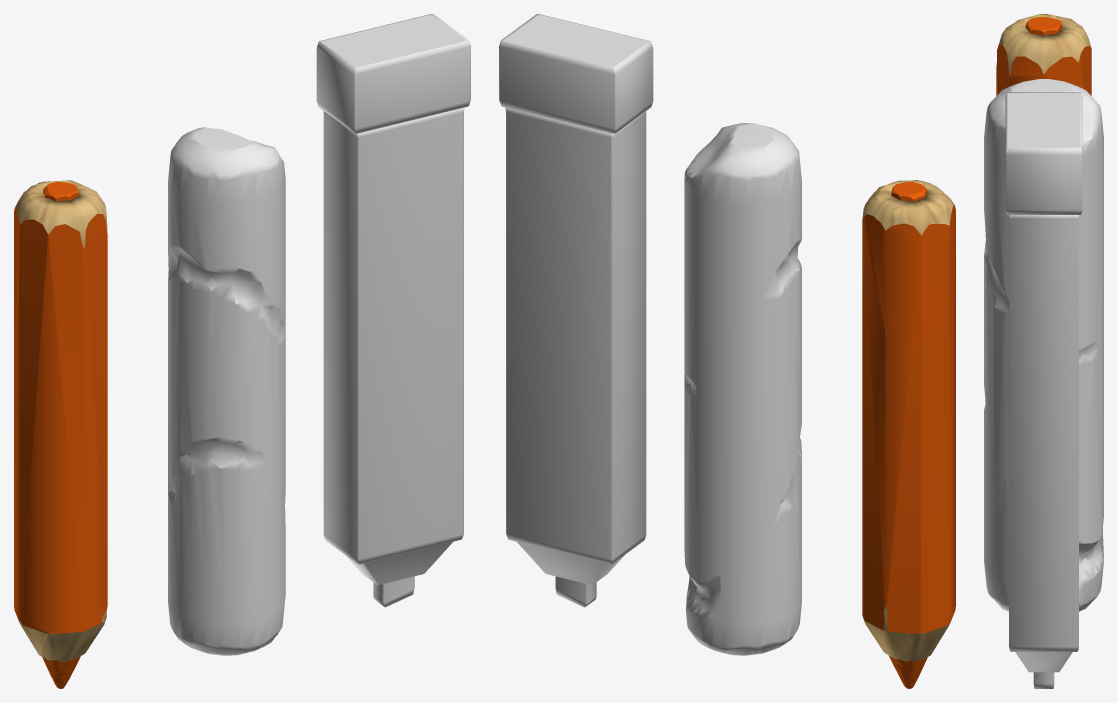
Rendered from pencil and marker.fbx.
The picture shows the model from 3 angles, left to right: view 1: azimuth 30°, elevation 25°; view 2: azimuth 150°, elevation 25°; view 3: azimuth 270°, elevation 25°; orthographic projection.
Parts seen in each view (by area): view 1: Cube, Cylinder_dmg, Cube.001_dmg; view 2: Cube, Cylinder_dmg, Cube.001_dmg; view 3: Cube, Cylinder_dmg, Cube.001_dmg.
Part boxes in pixels (left/top/right/bottom): Cube: left=316, top=14, right=470, bottom=607; Cylinder_dmg: left=168, top=127, right=285, bottom=655; Cube.001_dmg: left=14, top=180, right=107, bottom=688; Cube: left=499, top=14, right=653, bottom=607; Cylinder_dmg: left=684, top=122, right=801, bottom=655; Cube.001_dmg: left=862, top=180, right=955, bottom=688; Cube: left=1005, top=92, right=1082, bottom=688; Cylinder_dmg: left=984, top=79, right=1103, bottom=611; Cube.001_dmg: left=996, top=14, right=1091, bottom=95.
Bounding box in the file's own units: 280 × 350 × 66.36.
